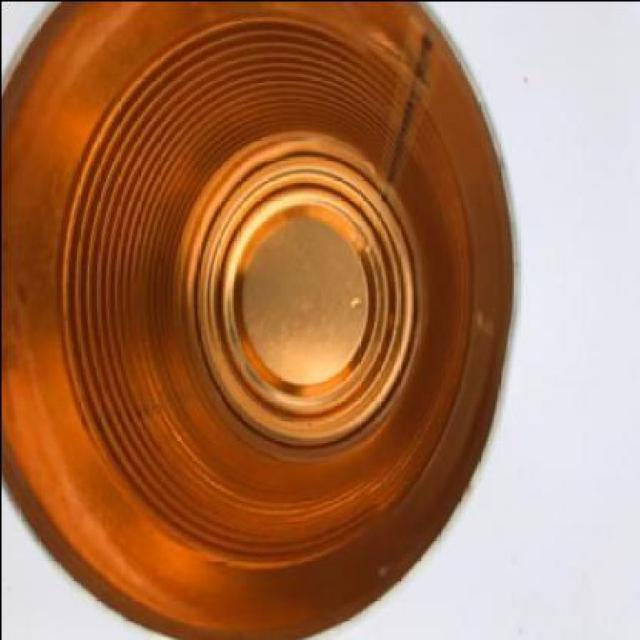METAL: (2, 1, 516, 638)
